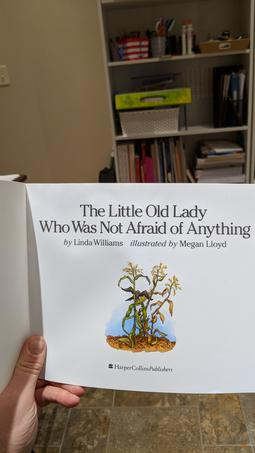text block: (30, 195, 253, 252), (99, 362, 185, 381)
